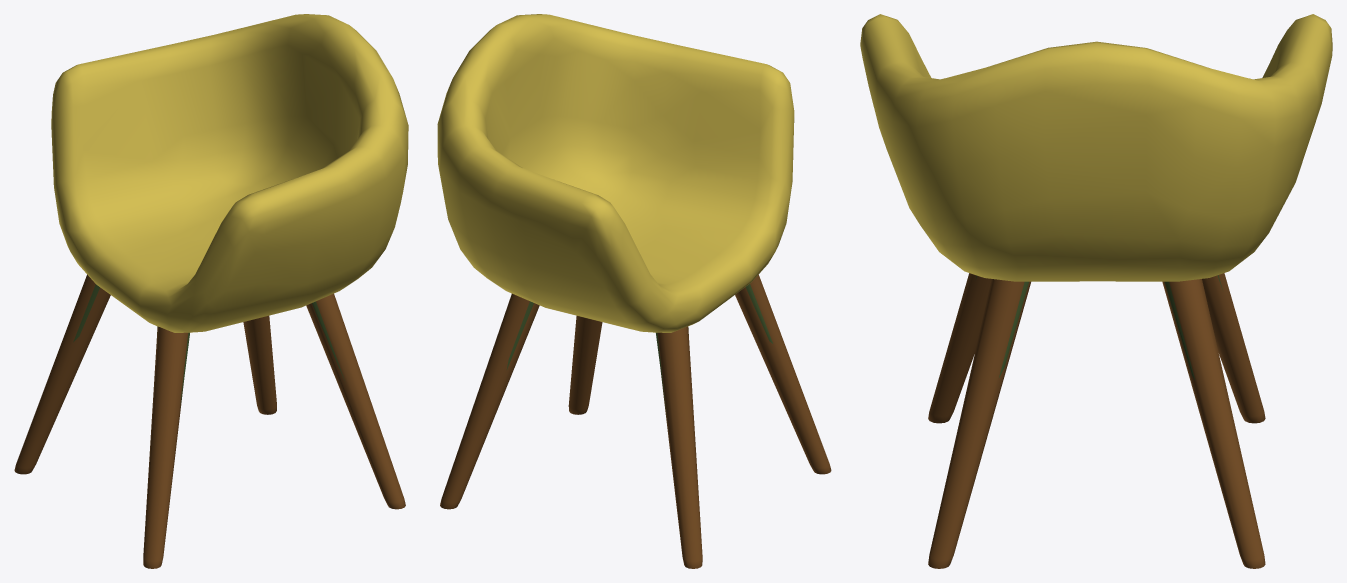
The model's file is chair_06_yellow.fbx.
The picture shows the model from 3 angles, left to right: view 1: azimuth 30°, elevation 25°; view 2: azimuth 150°, elevation 25°; view 3: azimuth 270°, elevation 25°; orthographic projection. The views are drawn at different scales.
Visible parts, largest first — view 1: chair_06_yellow; view 2: chair_06_yellow; view 3: chair_06_yellow.
Boxes of the visible parts, <box> form: chair_06_yellow: <box>14,14,408,568</box>; chair_06_yellow: <box>437,14,831,568</box>; chair_06_yellow: <box>860,14,1332,568</box>.
Bounding box in the file's own units: 55.35 × 80.79 × 65.62.
1 material, 1 textured.
